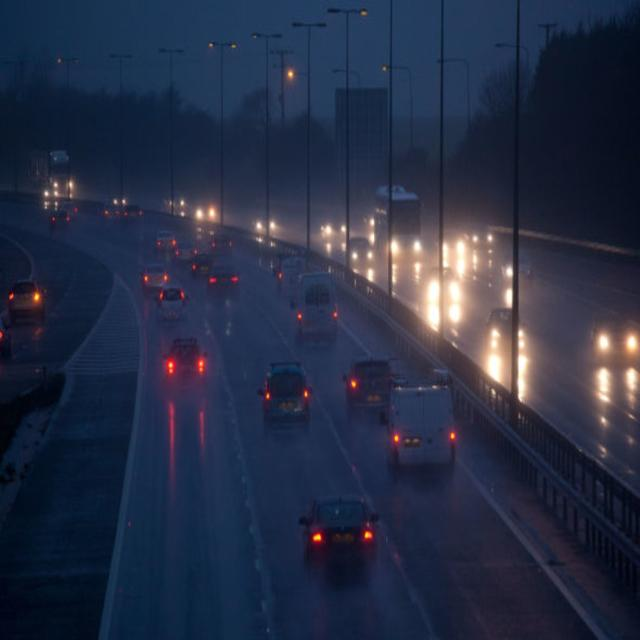bus: (26, 148, 74, 193)
car: (384, 372, 457, 475), (300, 495, 377, 574), (286, 272, 340, 342), (261, 363, 312, 426), (343, 358, 391, 412), (591, 308, 637, 362), (159, 338, 207, 386), (484, 306, 526, 351), (8, 278, 48, 320), (270, 245, 302, 291), (426, 261, 460, 300), (156, 284, 188, 323), (209, 260, 239, 298), (500, 250, 532, 282), (138, 263, 164, 294), (346, 236, 374, 264), (464, 222, 493, 248), (172, 238, 198, 264), (206, 234, 234, 253)
truck: (376, 184, 424, 264)
